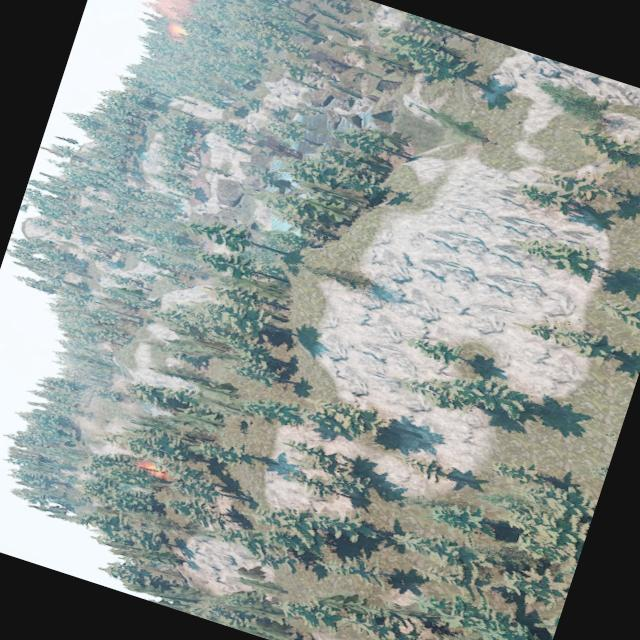fire: (138, 460, 170, 480), (165, 21, 190, 44)
smoke: (90, 0, 209, 25)
